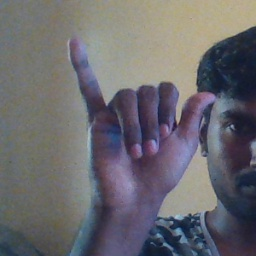J: (67, 36, 217, 209)
